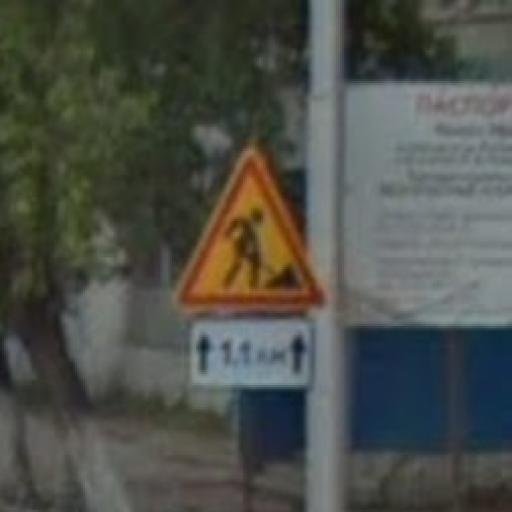traffic_sign: (171, 145, 329, 316)
